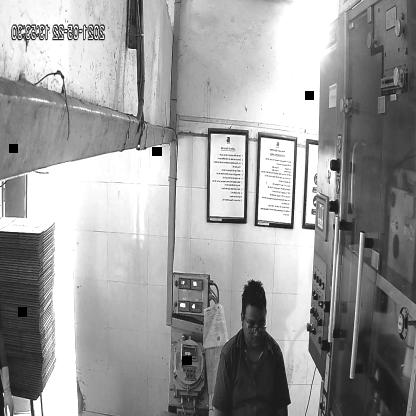goggles: (243, 314, 269, 340)
